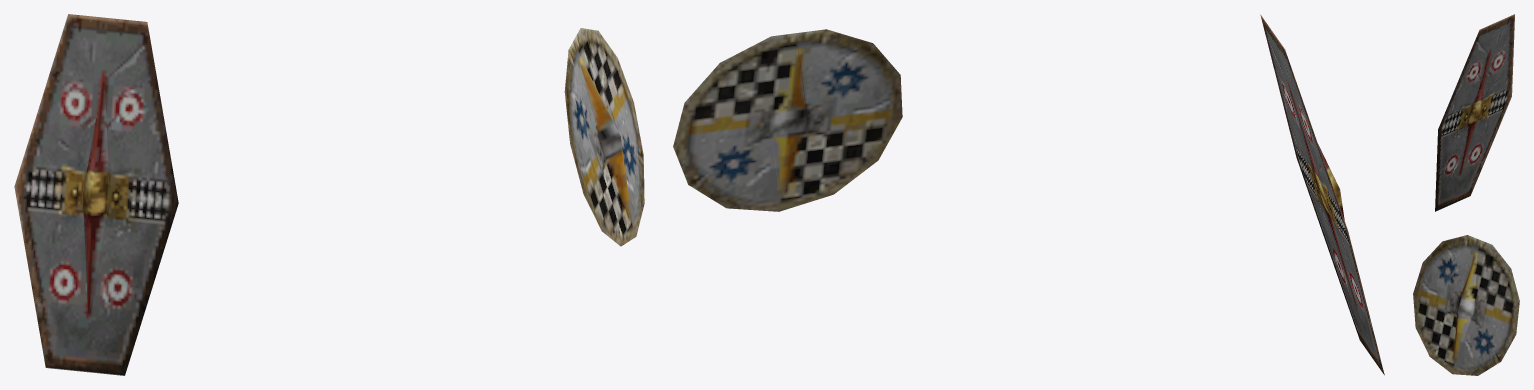
The model's file is celt_house_a_shields.dae.
3 renders of one model, left to right at view 1: azimuth 30°, elevation 25°; view 2: azimuth 150°, elevation 25°; view 3: azimuth 270°, elevation 25°, orthographic. The views are drawn at different scales.
Visible parts, largest first — view 1: Plane12-Pivot; view 2: Plane12-Pivot; view 3: Plane12-Pivot.
Part boxes in pixels (x1,y1,x2,y2): Plane12-Pivot: [14, 14, 644, 375]; Plane12-Pivot: [673, 14, 1384, 375]; Plane12-Pivot: [1413, 14, 1519, 375].
Bounding box in the file's own units: 5.5 × 1.28 × 2.65.
